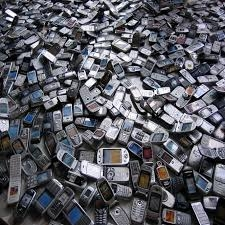metal: (126, 161, 156, 225), (180, 165, 212, 225), (43, 184, 81, 221), (3, 152, 24, 206), (92, 143, 132, 170), (154, 146, 187, 176), (10, 186, 38, 220), (53, 145, 85, 173), (75, 158, 109, 183), (27, 140, 52, 174), (75, 83, 102, 114), (134, 135, 158, 169), (112, 98, 146, 122), (148, 99, 178, 126), (157, 204, 193, 225), (171, 83, 199, 109), (92, 174, 117, 203), (21, 169, 55, 190), (1, 96, 18, 135), (116, 116, 138, 145), (107, 57, 130, 80), (63, 123, 83, 148), (183, 96, 208, 115), (147, 129, 172, 145), (48, 108, 64, 133), (127, 84, 147, 103), (90, 126, 109, 143), (60, 102, 75, 123), (23, 69, 41, 86)
